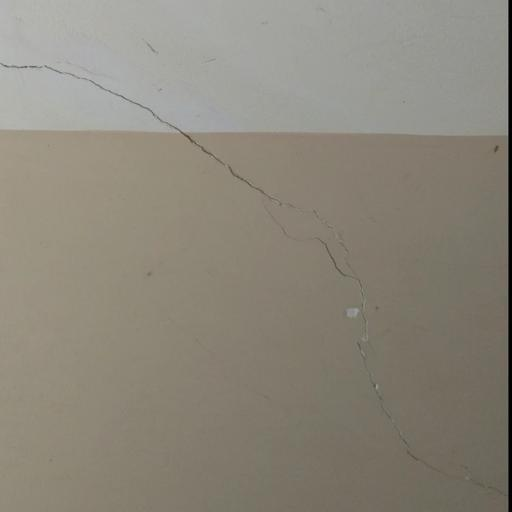minor_crack: (0, 33, 512, 489)
